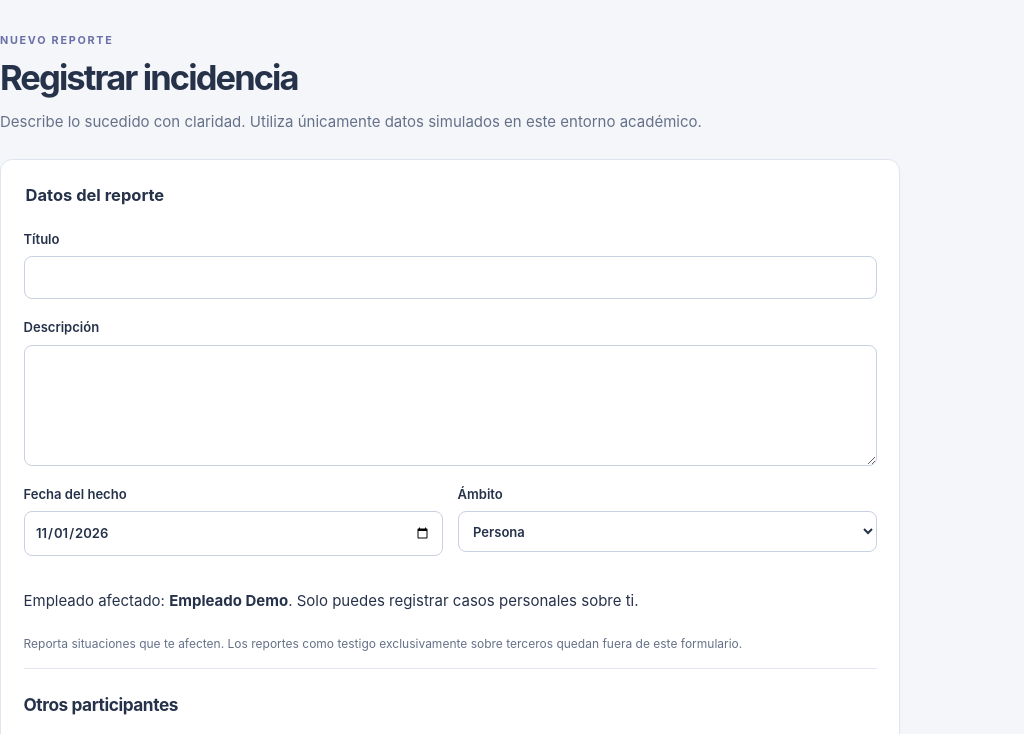
fallo de red no reenvía automáticamente ni invita a duplicar el reporte
Type "Reporte ficticio" into the field labelled "Título" at (450, 278), box x1=24 y1=256 x2=876 y2=299
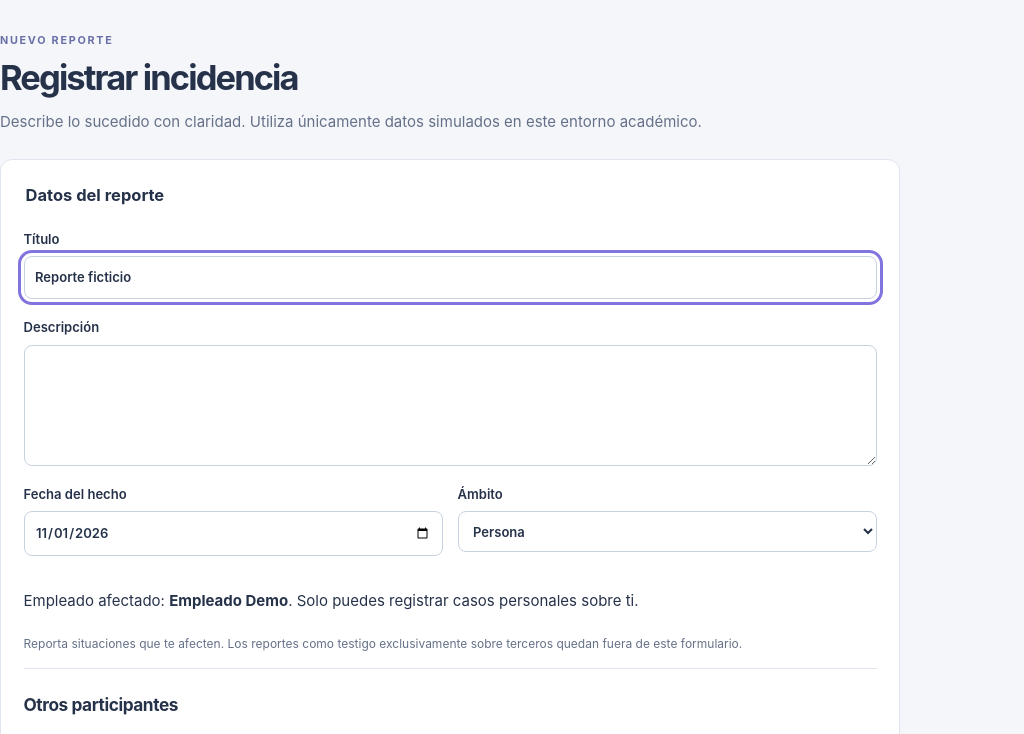
Type "Descripción simulada para la prueba." into the text box labelled "Descripción" at (450, 405), box x1=24 y1=345 x2=876 y2=466
(page scrolled)
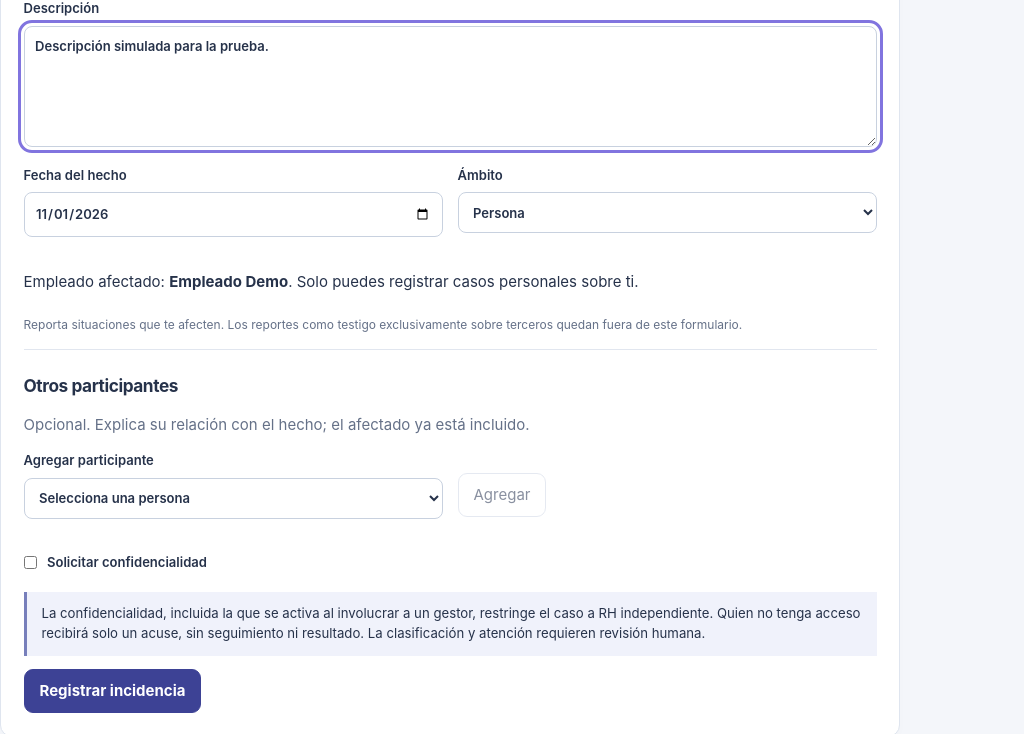
Click the button "Registrar incidencia" at (112, 691), box x1=24 y1=669 x2=201 y2=713
(page scrolled)
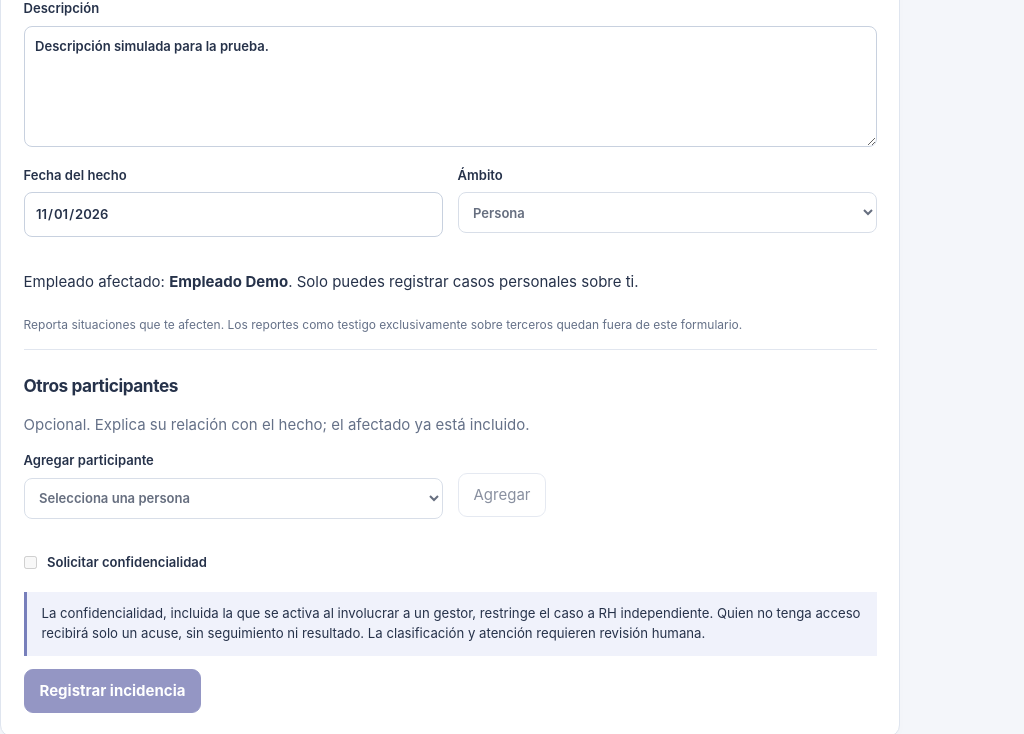
Now the button "Registrar incidencia" is disabled, box x1=24 y1=669 x2=201 y2=713
